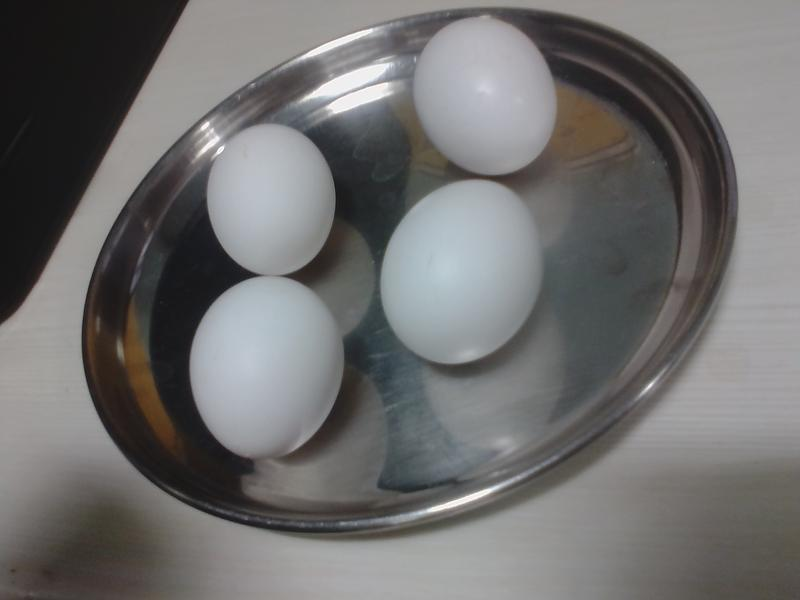egg: (209, 124, 334, 277)
